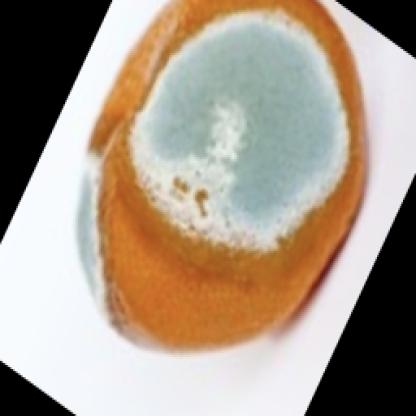rotten: (76, 1, 370, 359)
